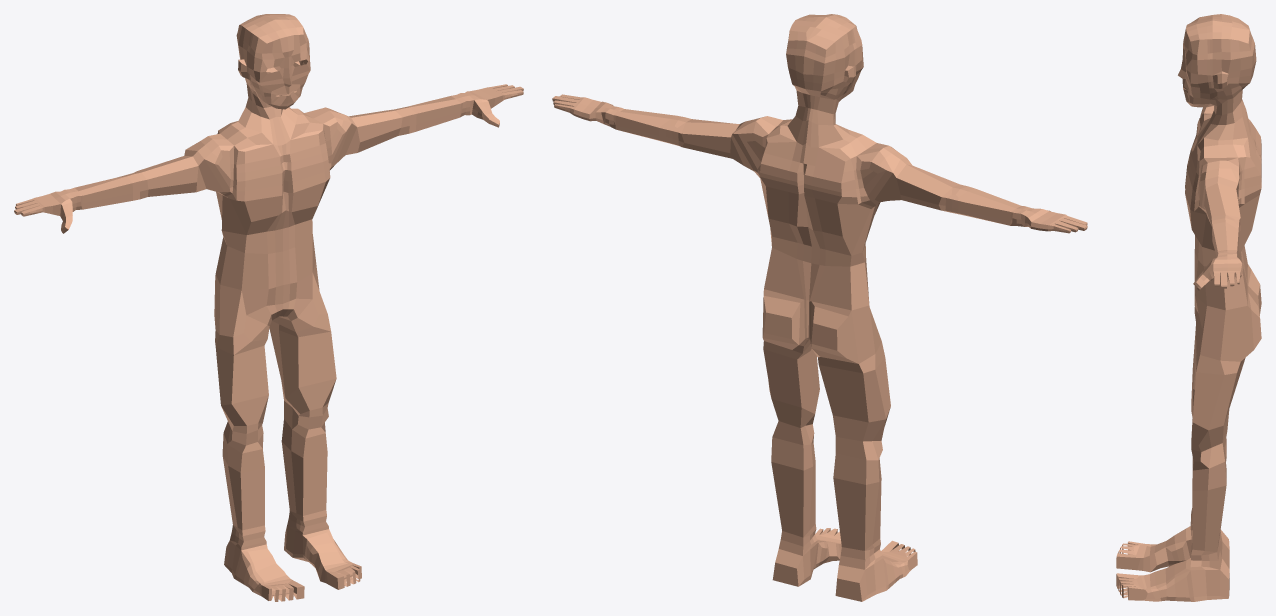
Rendered from 01MainChar_Marcus.glb.
The picture shows the model from 3 angles, left to right: view 1: azimuth 30°, elevation 25°; view 2: azimuth 150°, elevation 25°; view 3: azimuth 270°, elevation 25°; orthographic projection. The views are drawn at different scales.
Parts seen in each view (by area): view 1: 01MainChar_Marcus; view 2: 01MainChar_Marcus; view 3: 01MainChar_Marcus.
Part boxes in pixels (bbox=[...]): 01MainChar_Marcus: bbox=[14, 14, 523, 601]; 01MainChar_Marcus: bbox=[552, 14, 1087, 601]; 01MainChar_Marcus: bbox=[1116, 14, 1261, 601].
Size of the model in its own units: 1.78 by 1.82 by 0.4282.
